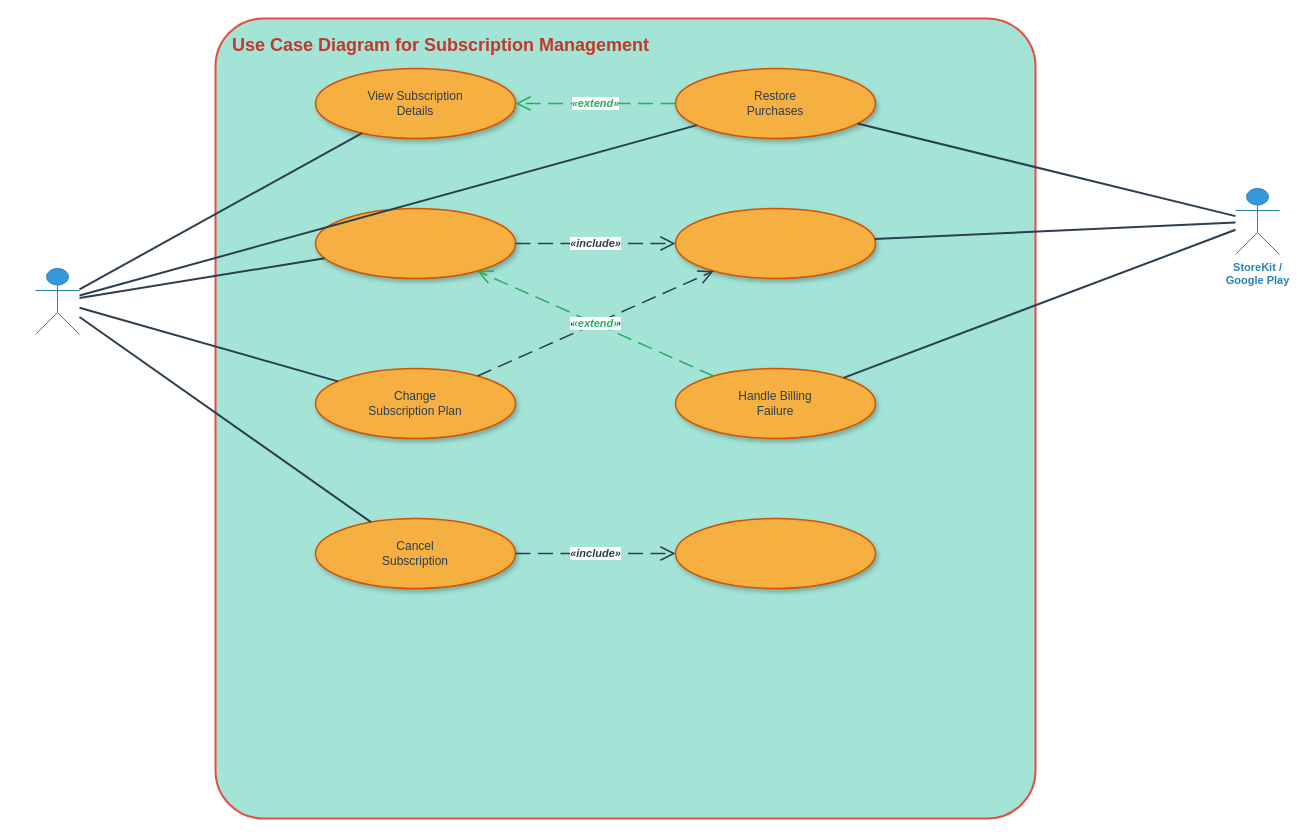
Some shapes in this 1307 by 836 pixel diagram are drawn without their labels. Here are the shapes that lost their labels. From the top down, the centre of each, then its label:
At point 416,244: "Subscribe to VIP (Upgrade)".
At point 776,244: "Validate Receipt".
At point 57,301: "Authenticated User".
At point 776,554: "Show Retention Offer".
